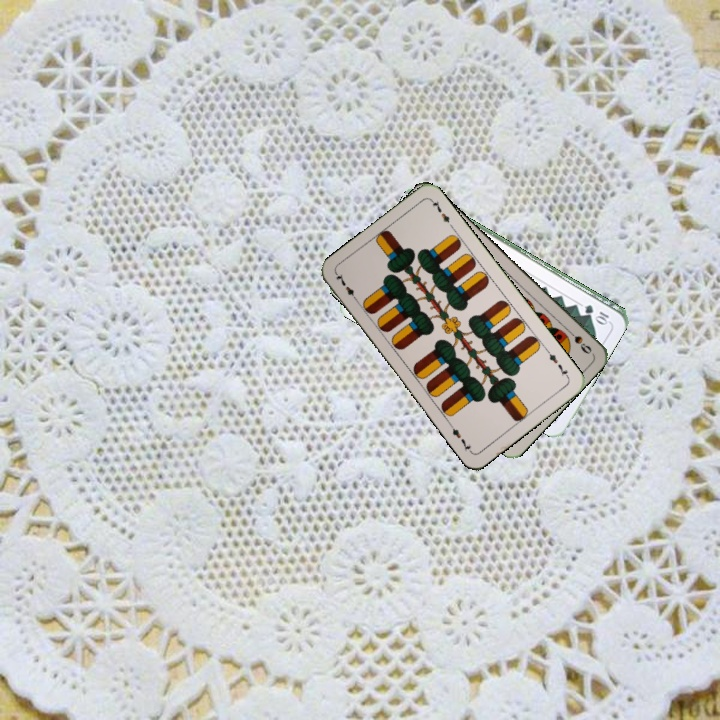E7: (542, 346, 572, 381), (332, 270, 361, 305)
G10: (580, 300, 612, 325)
S9: (562, 324, 594, 357)
